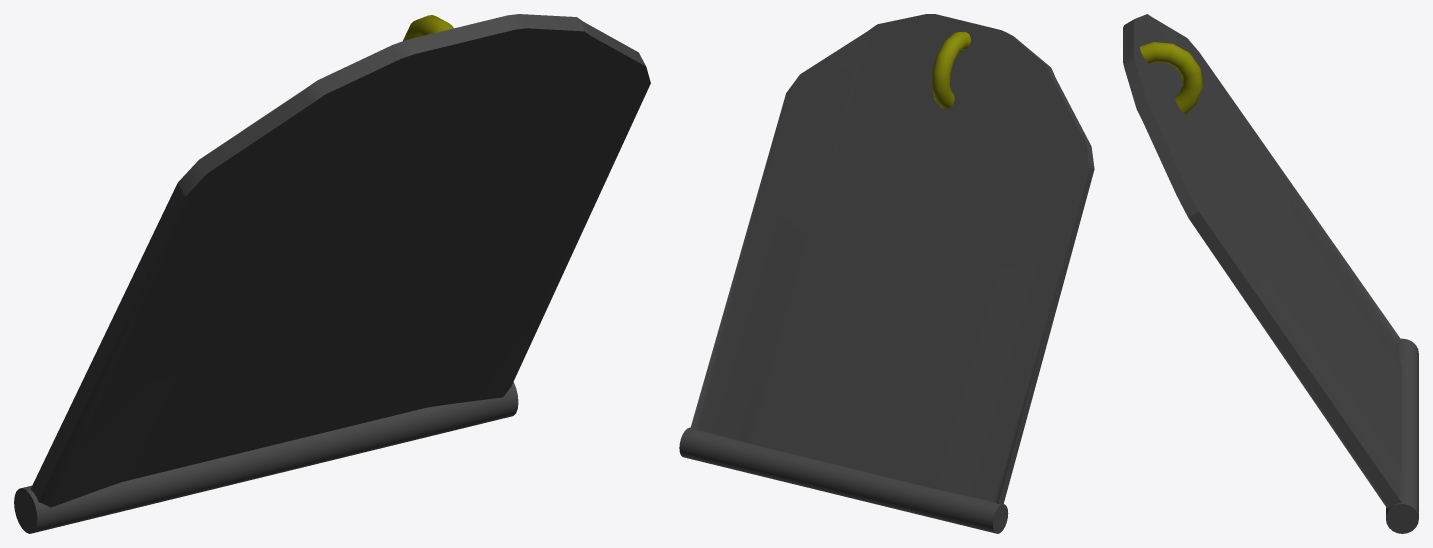
Rendered from PlaneIdle_2_TetherObs_v1.fbx.
3 views of the same model, side by side, from view 1: azimuth 30°, elevation 25°; view 2: azimuth 150°, elevation 25°; view 3: azimuth 270°, elevation 25° (orthographic). The views are drawn at different scales.
Parts seen in each view (by area): view 1: Rear_Door; view 2: Rear_Door; view 3: Rear_Door.
Boxes of the visible parts, x1=… form: Rear_Door: x1=14, y1=14, x2=650, y2=533; Rear_Door: x1=679, y1=14, x2=1094, y2=533; Rear_Door: x1=1123, y1=14, x2=1418, y2=533.
Bounding box in the file's own units: 92.42 × 108 × 69.92.
